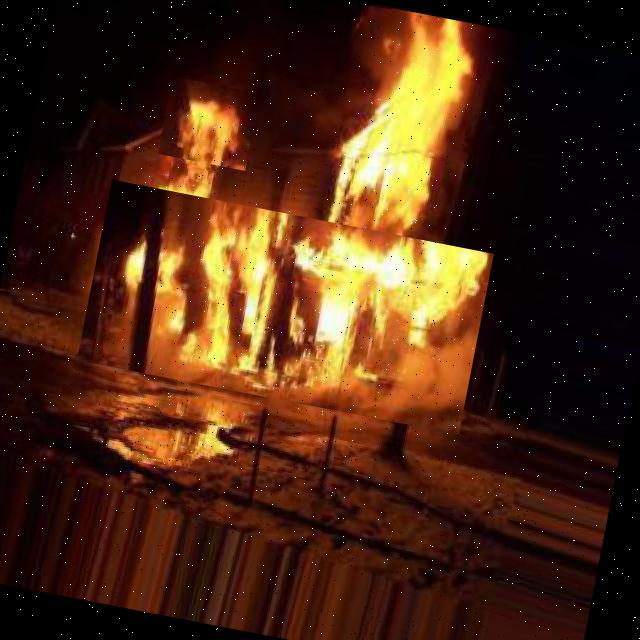fire: (77, 180, 494, 434), (321, 4, 486, 244), (158, 76, 260, 171)
